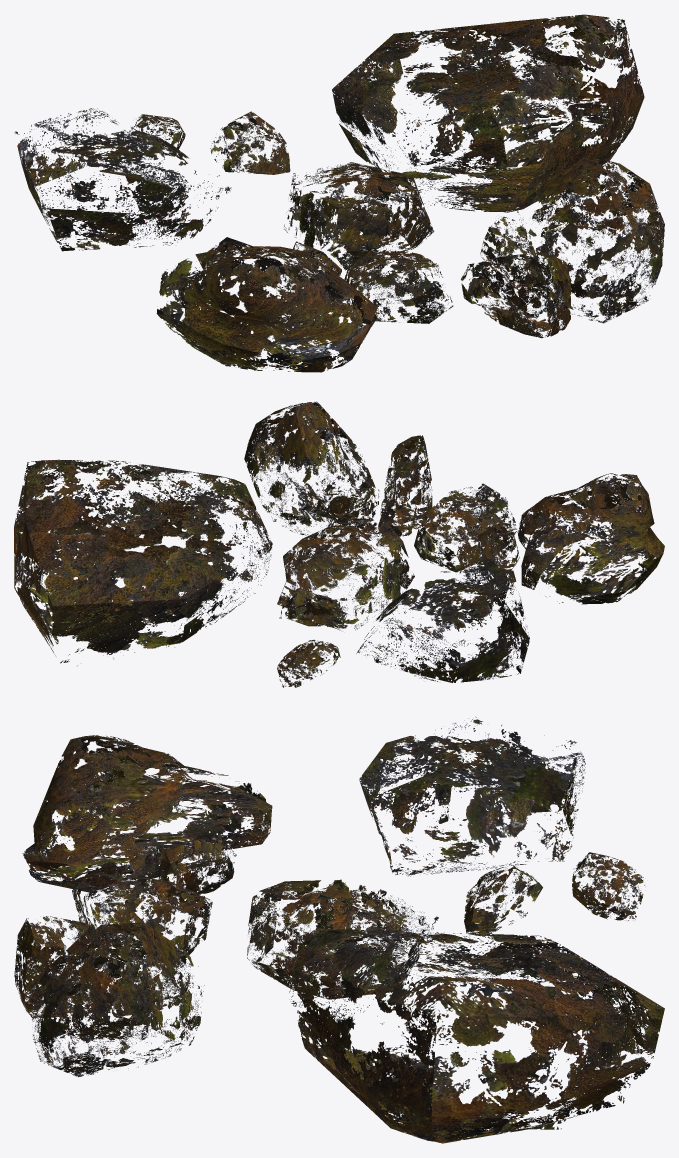
Rendered from Moss 03.FBX.
3 views of the same model, one above another, from view 1: azimuth 30°, elevation 25°; view 2: azimuth 150°, elevation 25°; view 3: azimuth 270°, elevation 25° (orthographic). The views are drawn at different scales.
Parts seen in each view (by area): view 1: Moss 03; view 2: Moss 03; view 3: Moss 03.
Part boxes in pixels (left/top/right/bottom): Moss 03: left=14, top=14, right=664, bottom=372; Moss 03: left=14, top=401, right=664, bottom=687; Moss 03: left=14, top=716, right=664, bottom=1143.
Size of the model in its own units: 72.05 by 19.73 by 60.98.
